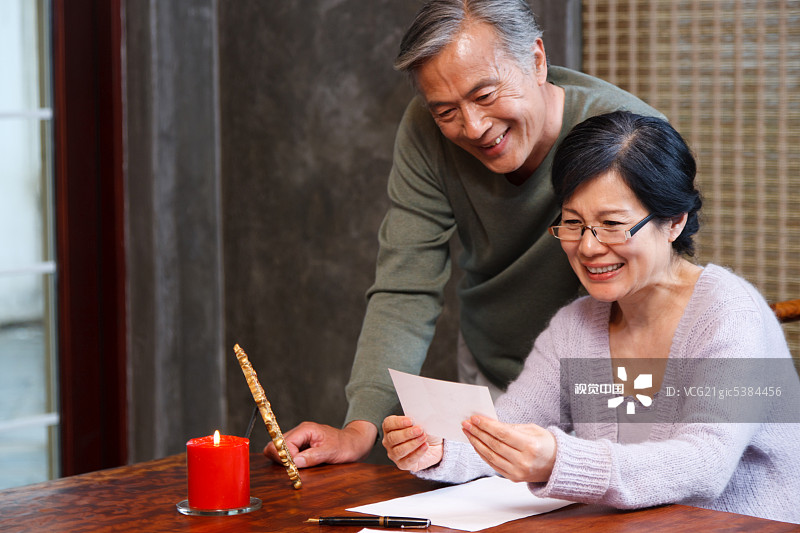no-phone: (457, 411, 571, 492), (372, 400, 453, 482)
